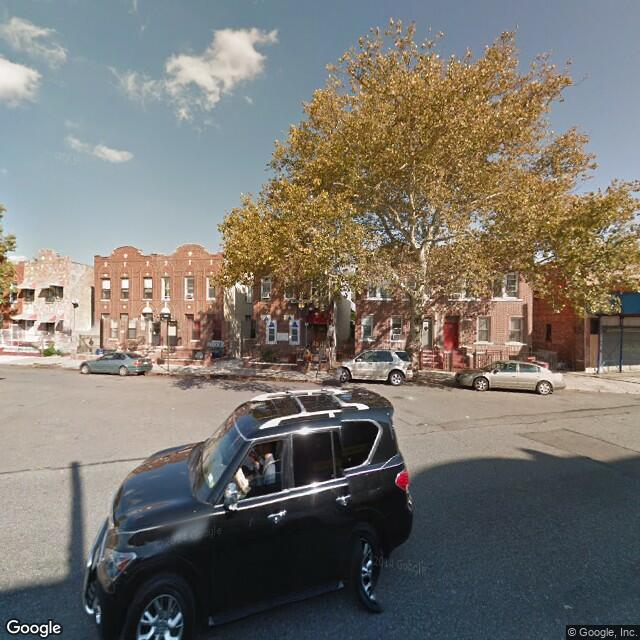litter: (465, 415, 471, 422)
